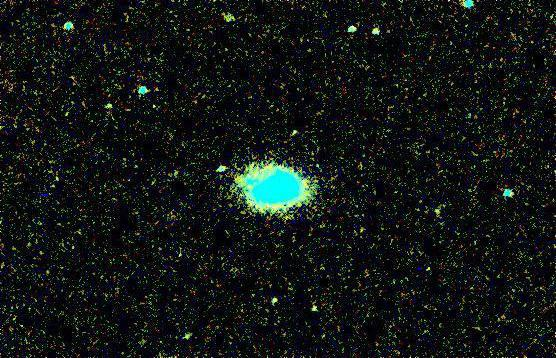star: (235, 166, 265, 196)
